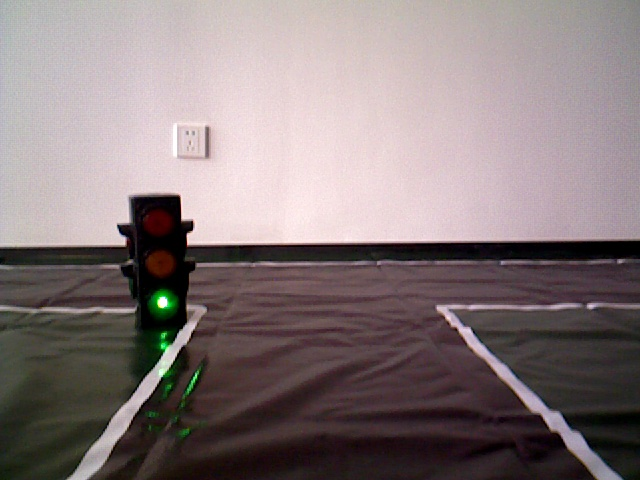green: (129, 201, 186, 323)
